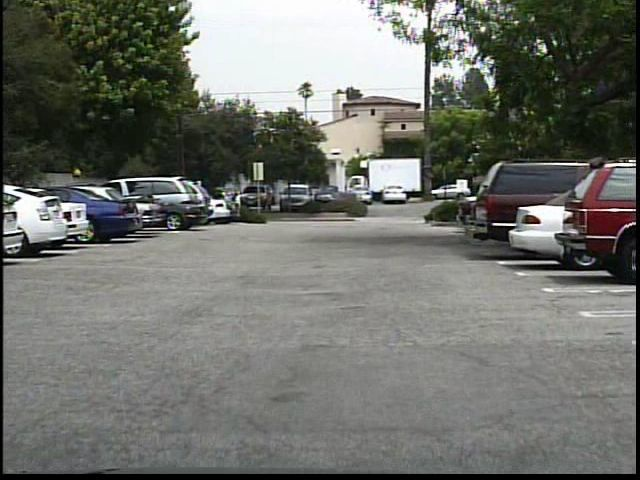person: (217, 188, 233, 219), (230, 192, 244, 221), (227, 190, 239, 220)
